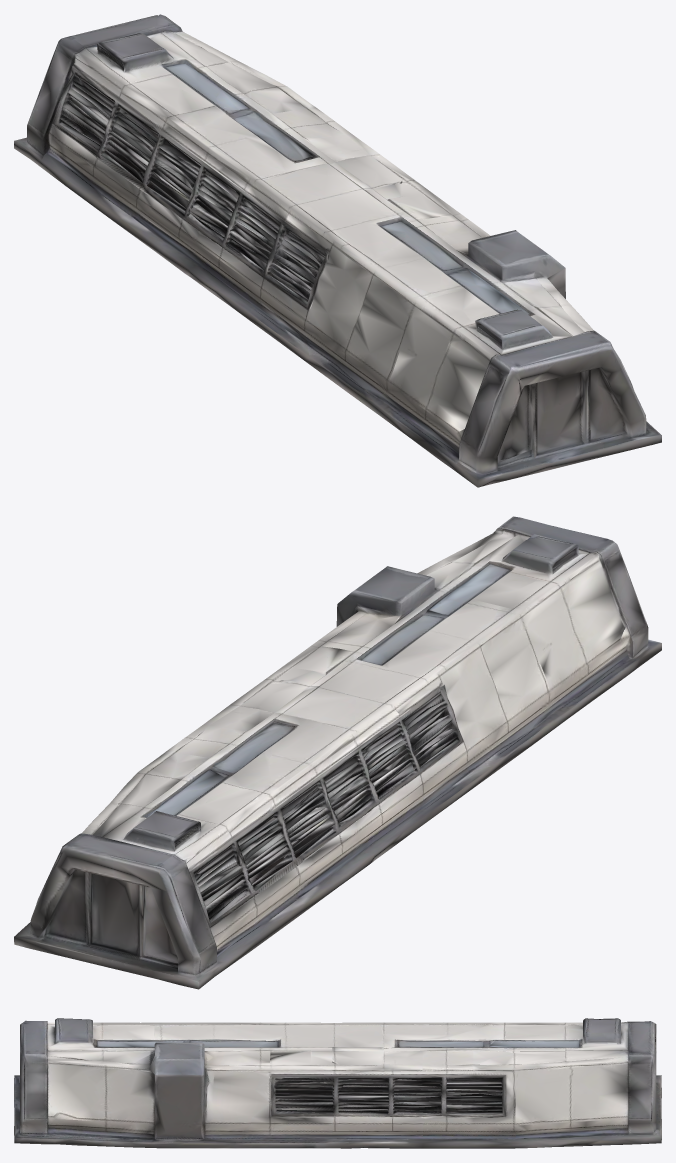
The model's file is roofMonitor.glb.
3 views of the same model, one above another, from view 1: azimuth 30°, elevation 25°; view 2: azimuth 150°, elevation 25°; view 3: azimuth 270°, elevation 25° (orthographic). The views are drawn at different scales.
Visible parts, largest first — view 1: roofMonitor; view 2: roofMonitor; view 3: roofMonitor.
Part boxes in pixels (x1,y1,x2,y2): roofMonitor: [14, 14, 661, 487]; roofMonitor: [14, 516, 661, 989]; roofMonitor: [14, 1018, 661, 1148].
Bounding box in the file's own units: 10 × 5.5 × 40.
1 material, 1 textured.
